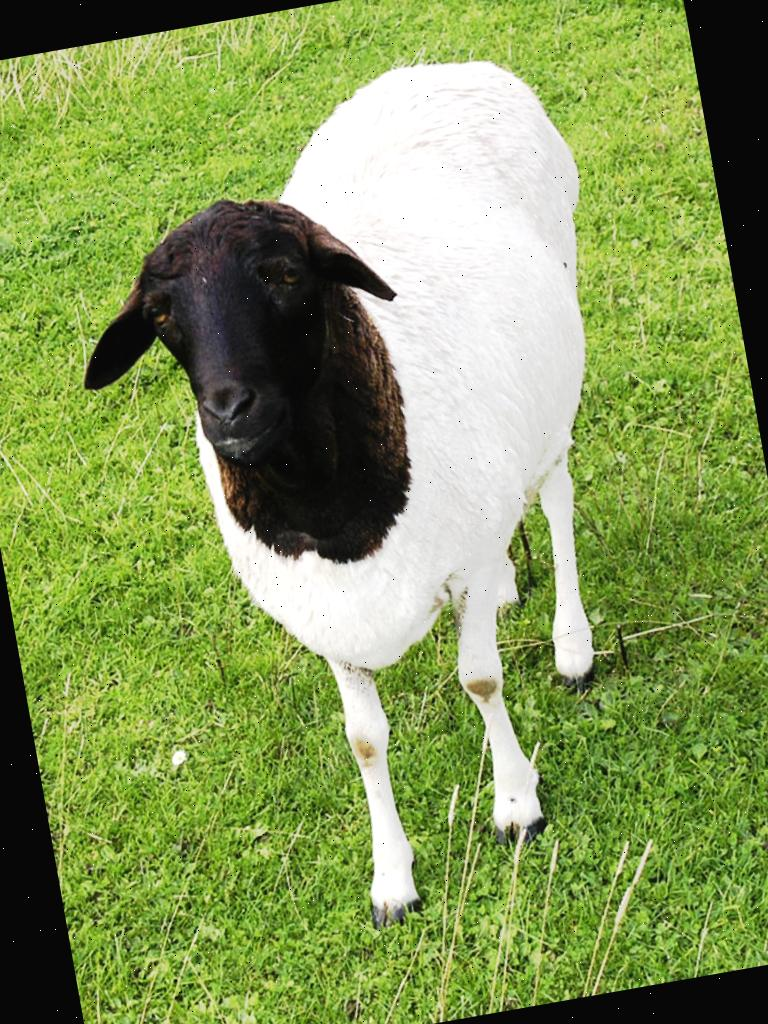Sheep: (27, 68, 670, 918)
